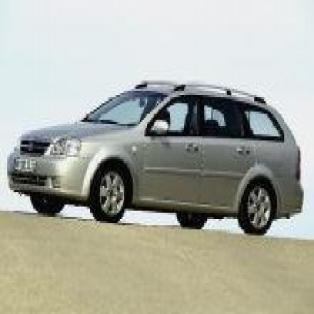Auto: (4, 74, 313, 244)
